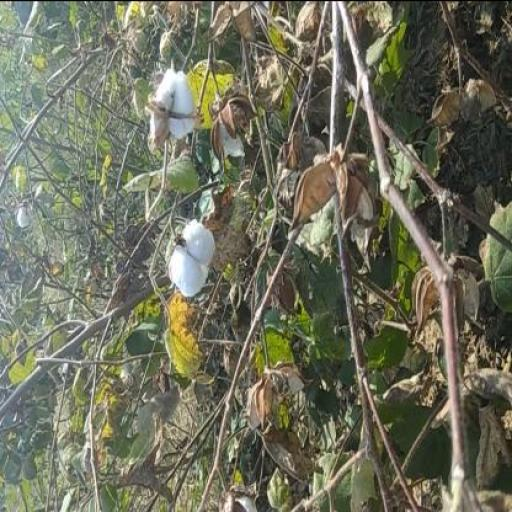cotton_ready: (136, 48, 223, 166), (167, 201, 240, 325)
